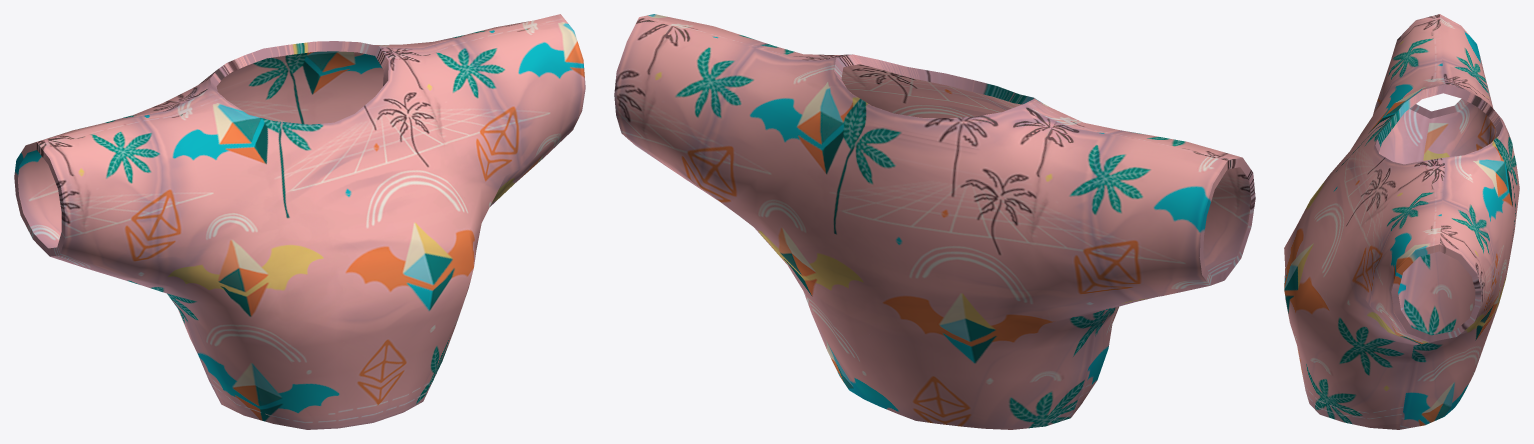
Rendered from MiniTshirt_Art.glb.
3 views of the same model, side by side, from view 1: azimuth 30°, elevation 25°; view 2: azimuth 150°, elevation 25°; view 3: azimuth 270°, elevation 25° (orthographic). The views are drawn at different scales.
Parts seen in each view (by area): view 1: Mini_Tshirt_LP; view 2: Mini_Tshirt_LP; view 3: Mini_Tshirt_LP.
Part boxes in pixels (x1,y1,x2,y2): Mini_Tshirt_LP: (14,14,585,429); Mini_Tshirt_LP: (614,14,1255,429); Mini_Tshirt_LP: (1284,14,1519,429).
Size of the model in its own units: 0.5015 by 0.2736 by 0.2169.
1 material, 1 textured.
